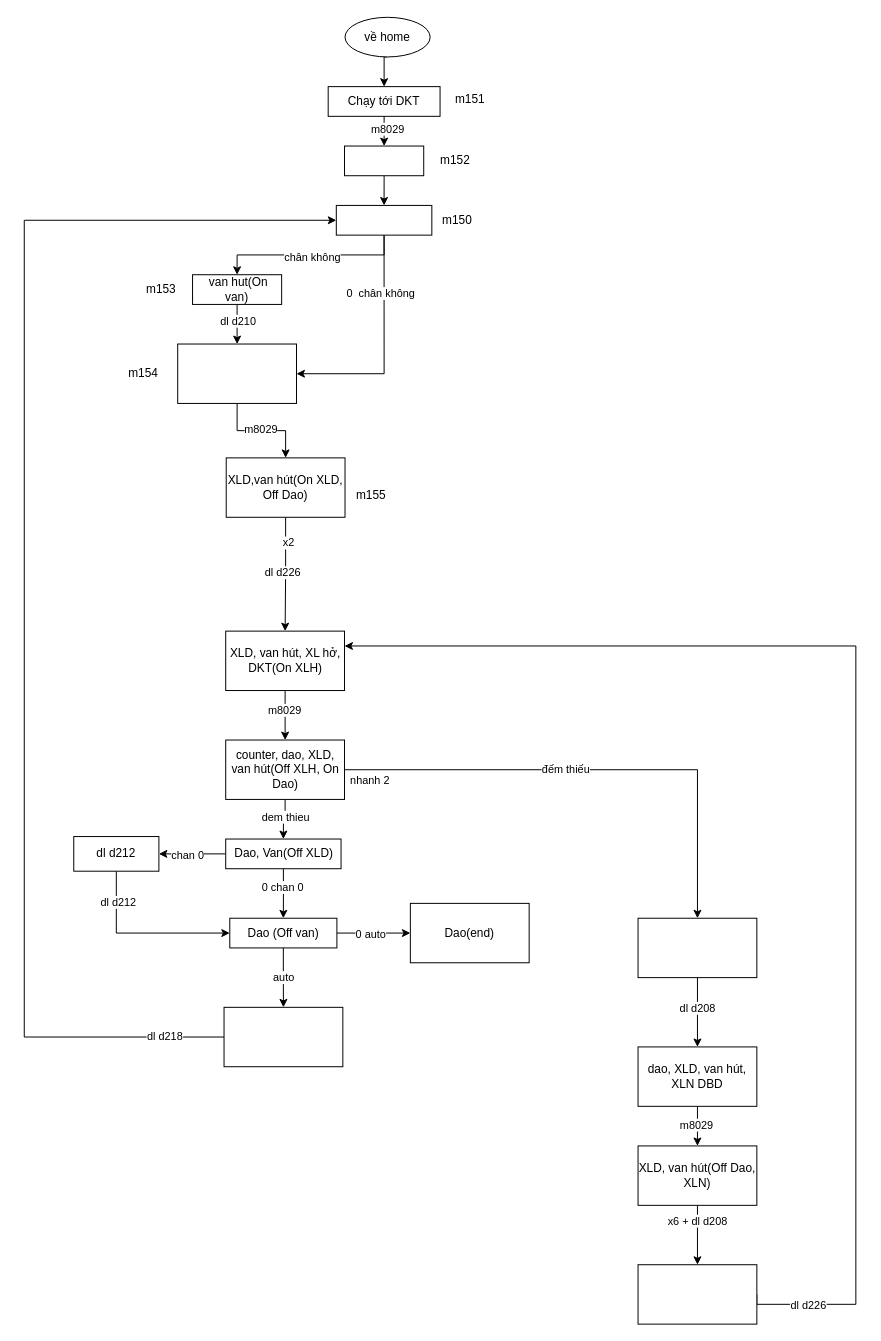
Some shapes in this 881 by 1341 pixel diagram are drawn without their labels. Each missing label, with the centre of its shape:
Dao(dl d218): point (283, 1036)
dao(On dao): point (384, 160)
dao, van hút,DBD: point (237, 373)
Dao, van(dl d226): point (697, 1294)
dao, XLD, van hút, XLN(On XLN): point (697, 947)
SS in: point (383, 219)
